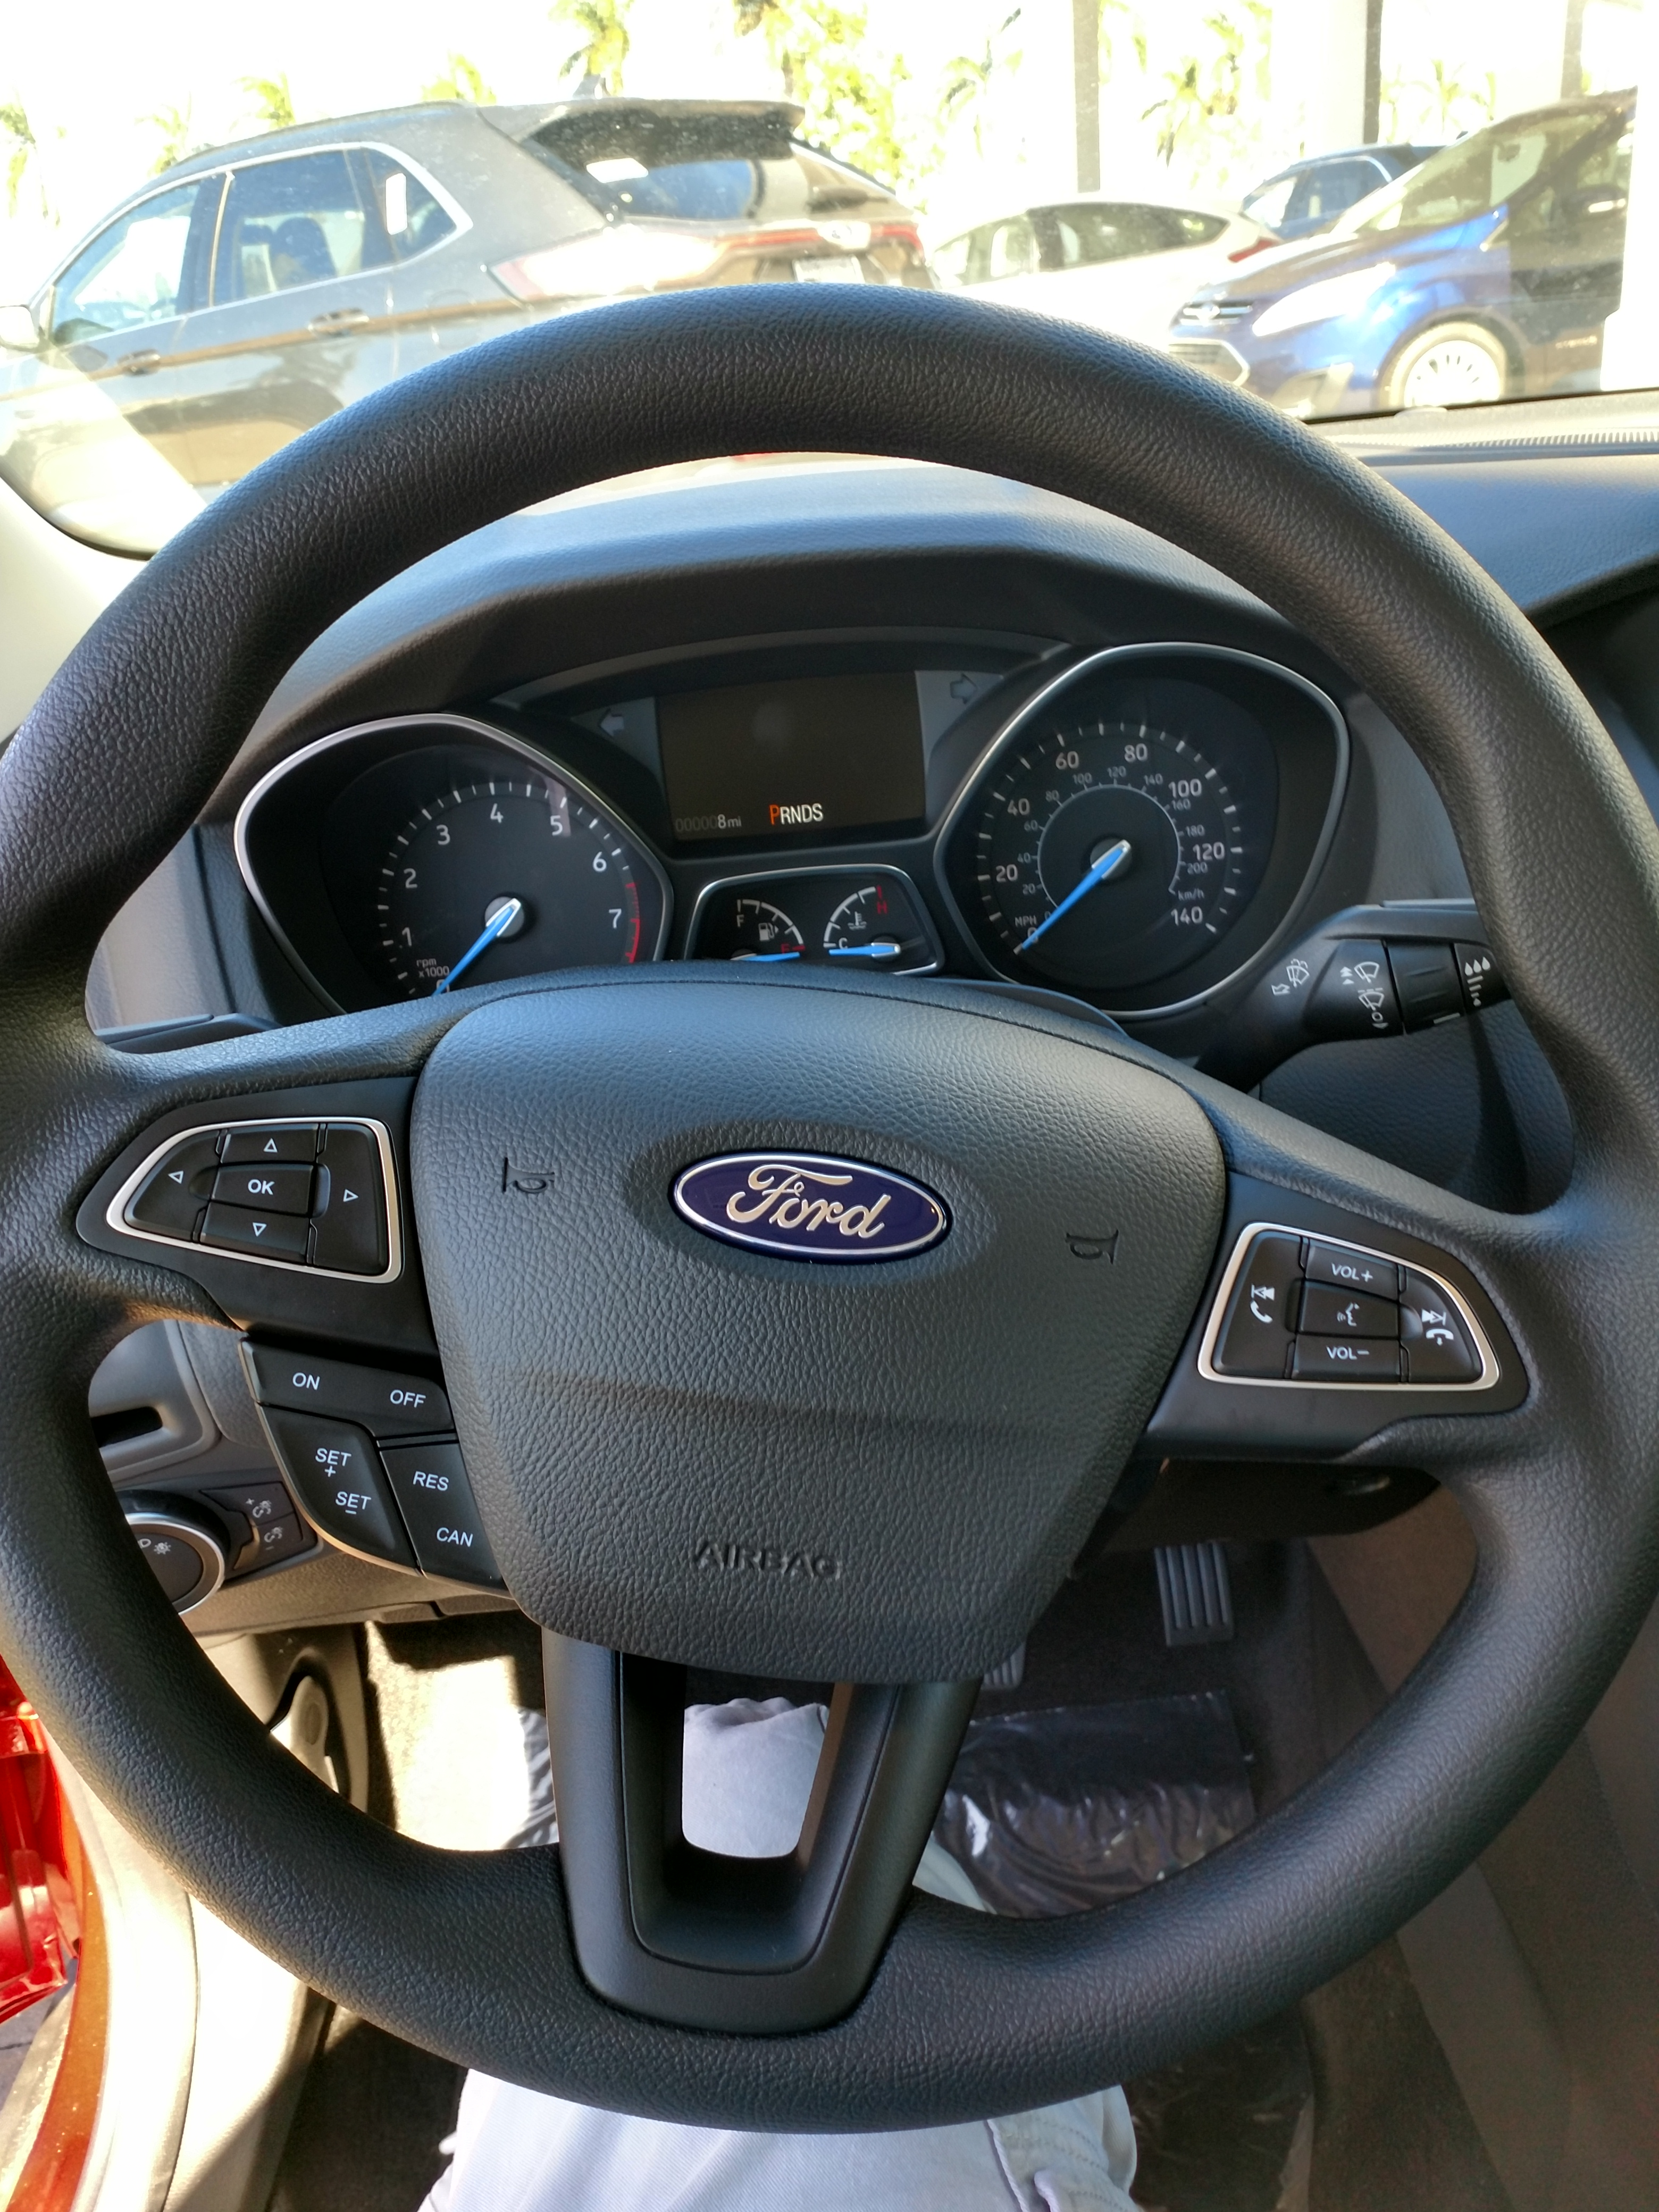Ford: (650, 1136, 965, 1273)
